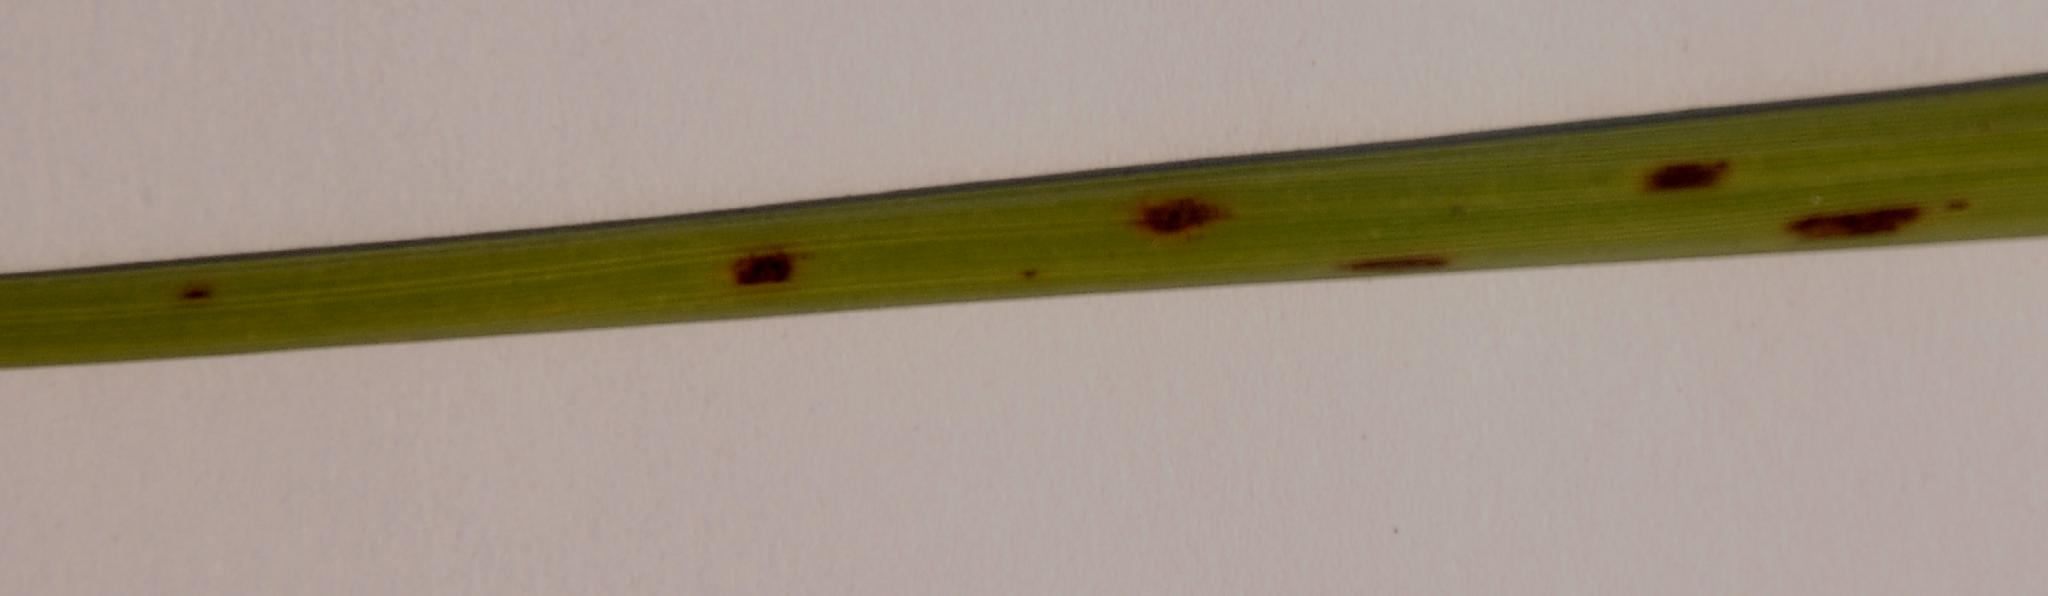0 BrownSpot: (1783, 196, 1967, 250), (1134, 163, 1240, 242), (722, 233, 818, 315), (1351, 227, 1479, 286), (1627, 146, 1768, 197), (166, 252, 225, 311)
